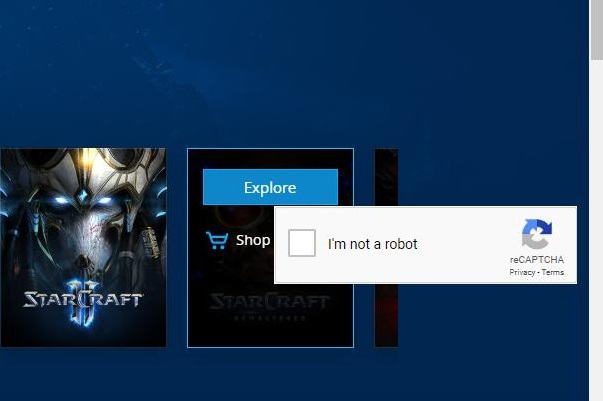captcha: (288, 229, 420, 256)
